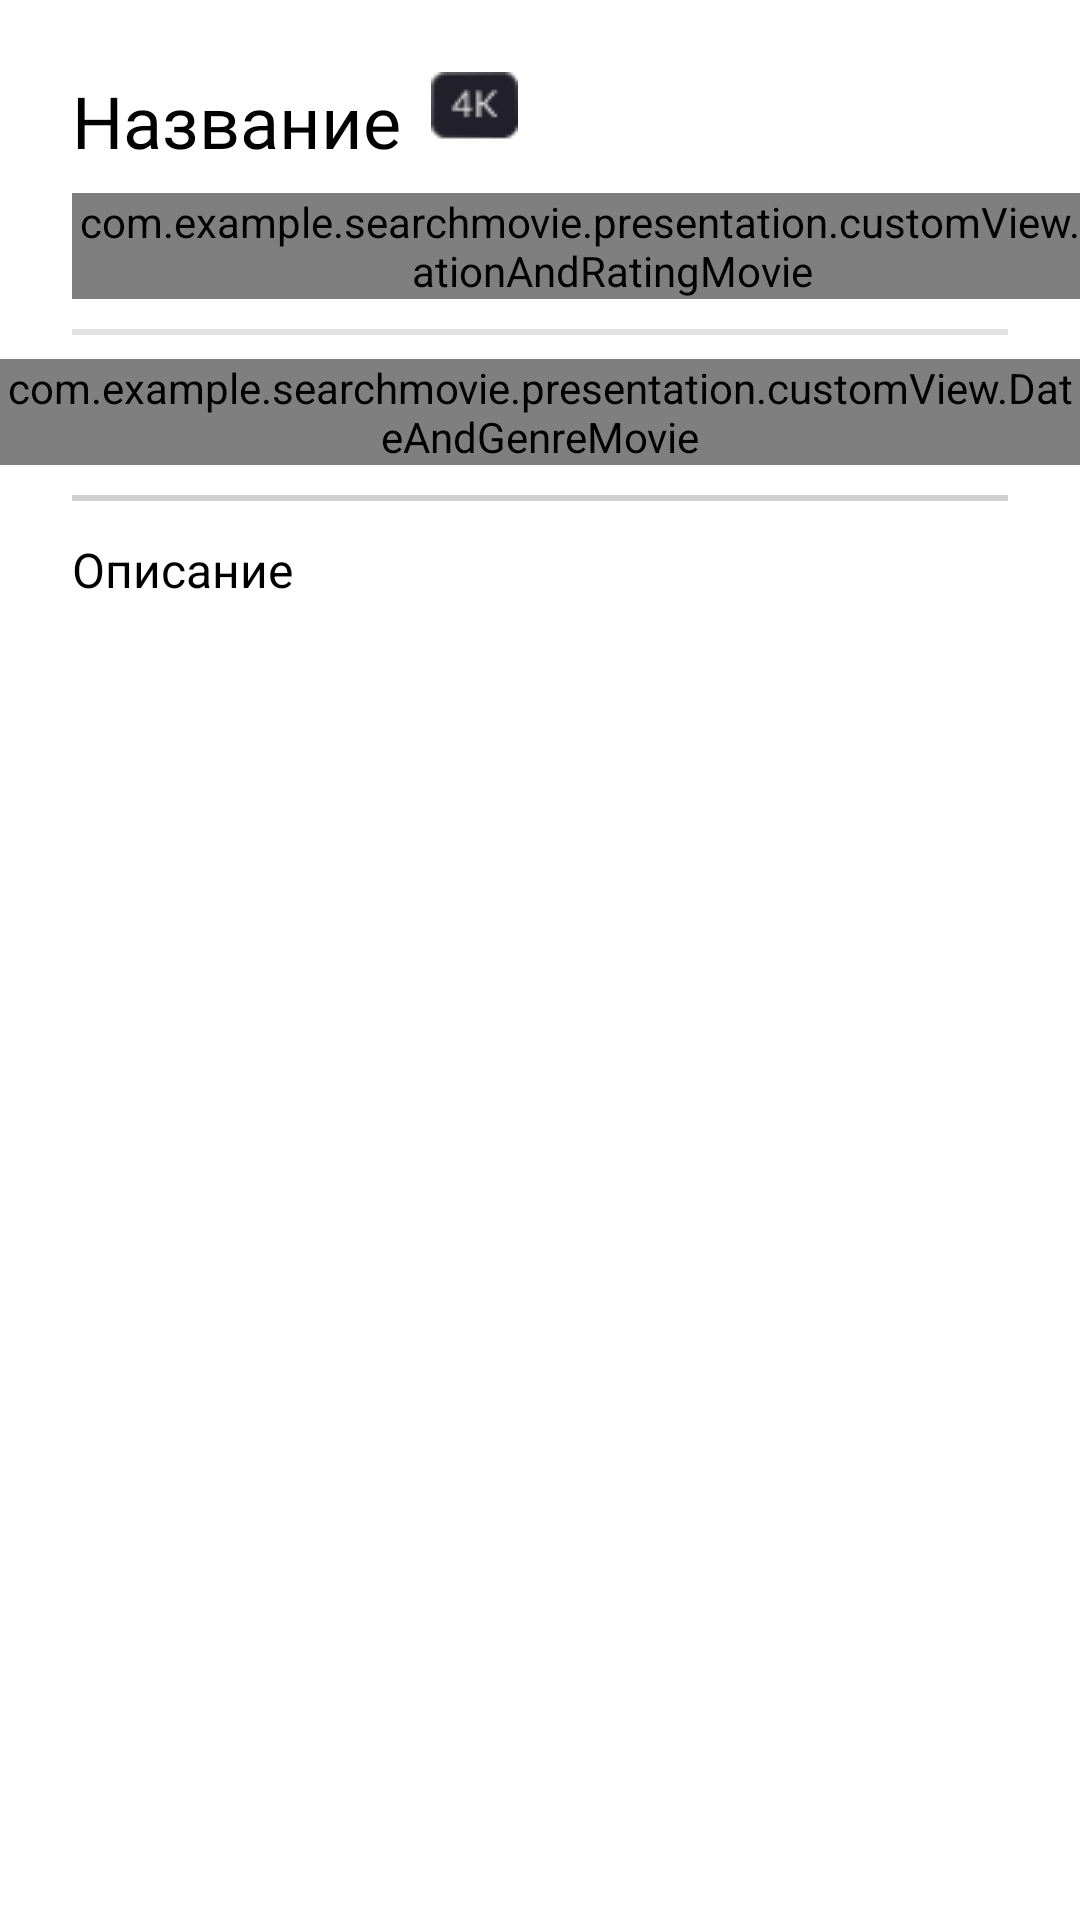

Icons on this 1080 × 1920 Android screen, each with the point to tap as [x,y]:
quality video: [474,105]
